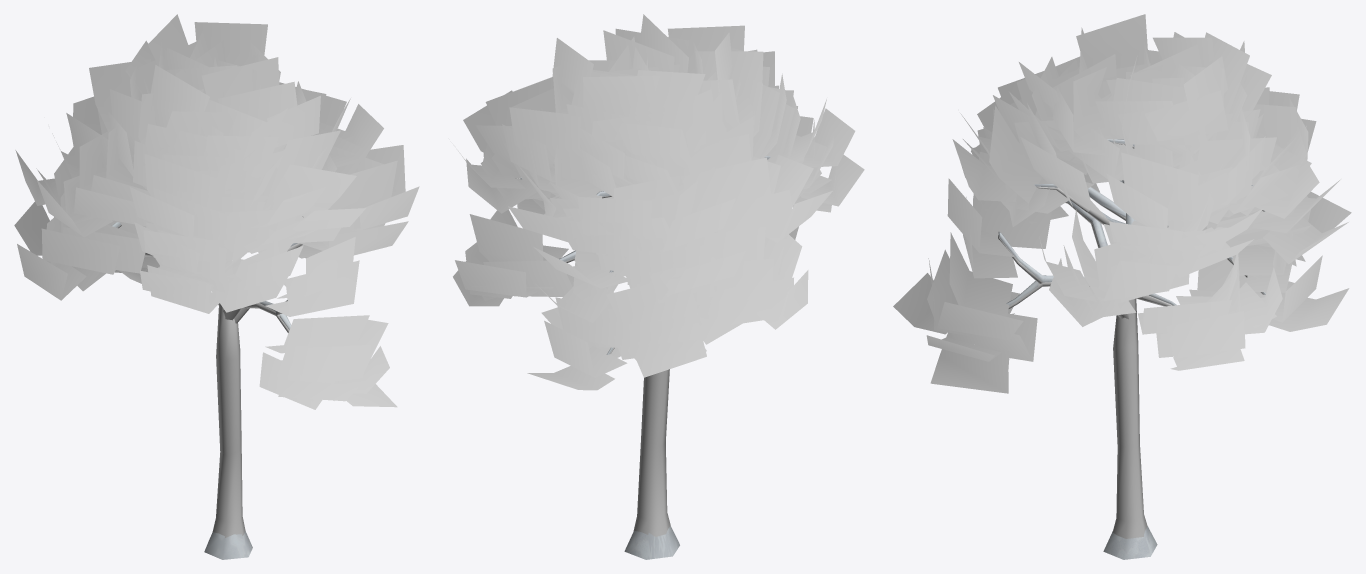
Rendered from Tree_Medium_3_Tall_Snow.fbx.
The picture shows the model from 3 angles, left to right: view 1: azimuth 30°, elevation 25°; view 2: azimuth 150°, elevation 25°; view 3: azimuth 270°, elevation 25°; orthographic projection. The views are drawn at different scales.
Parts seen in each view (by area): view 1: Tree_Medium_3_Snow_LOD0; view 2: Tree_Medium_3_Snow_LOD0; view 3: Tree_Medium_3_Snow_LOD0.
Part boxes in pixels (<box>): Tree_Medium_3_Snow_LOD0: <box>14,14,419,559</box>; Tree_Medium_3_Snow_LOD0: <box>453,14,864,559</box>; Tree_Medium_3_Snow_LOD0: <box>893,14,1351,559</box>.
Size of what is drawn, in the model's own units: 1369 by 1912 by 1581.
